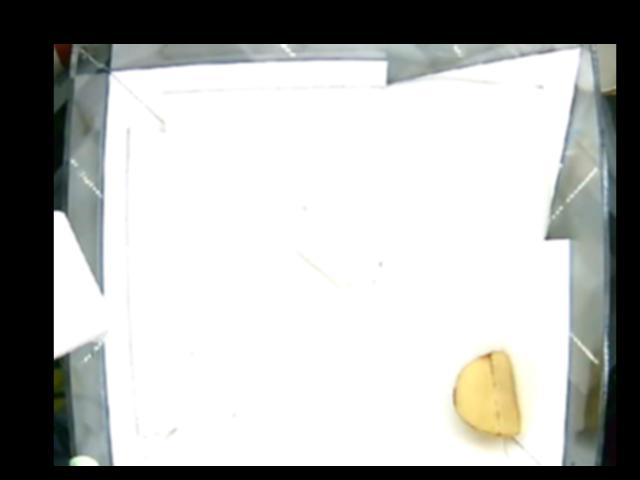China: (292, 198, 390, 301)
Potato: (452, 349, 523, 436)
